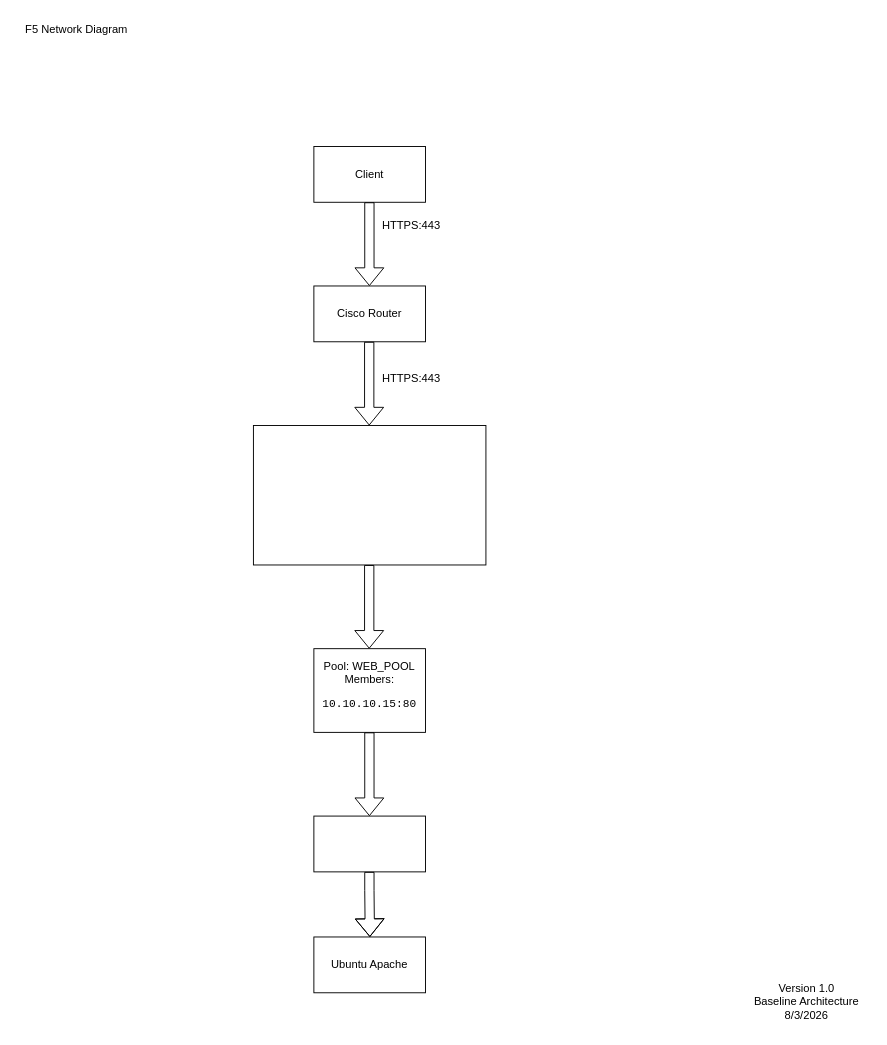
This 887x1045 diagram has some shape labels left out. The centre of each missing label's shape, as x and y in pixels:
"BIG-IP HA Pair Active/Standby Floating Self IP Virtual Server (VIP)" goes at pixel 369 495.
"Cisco Switch" goes at pixel 369 843.
